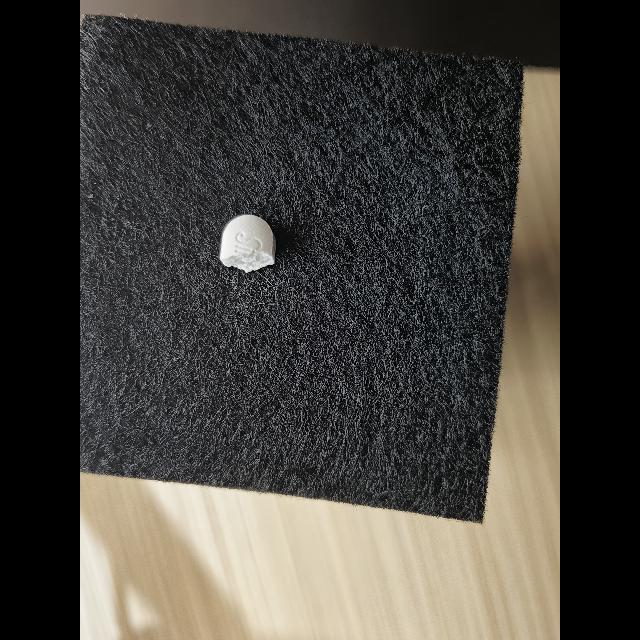Chipped Pill: (220, 215, 276, 273)
